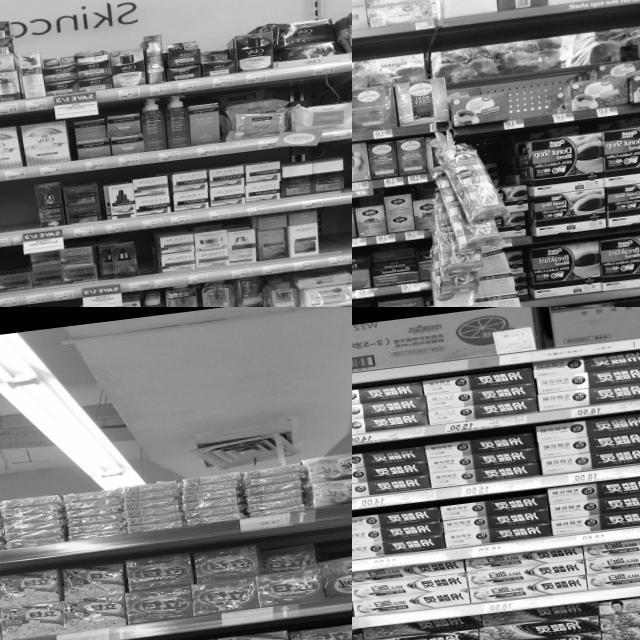empty: (5, 181, 40, 245), (317, 204, 352, 266), (506, 80, 548, 128), (133, 232, 157, 290), (0, 182, 11, 248)
